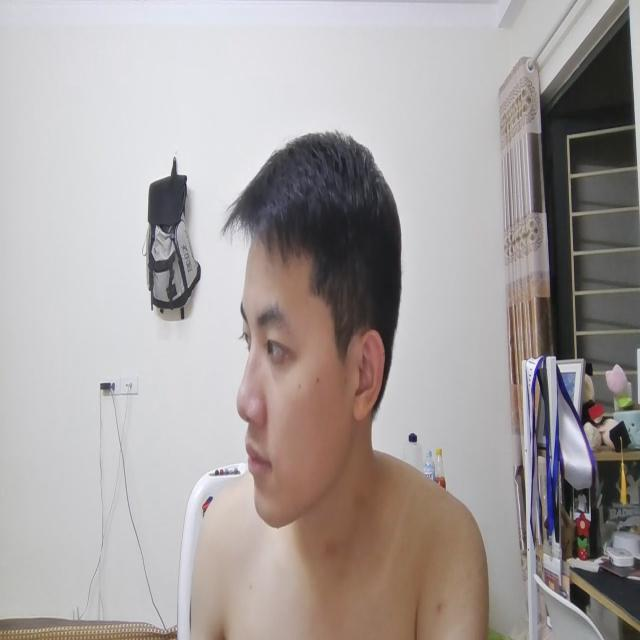student: (190, 128, 488, 640)
